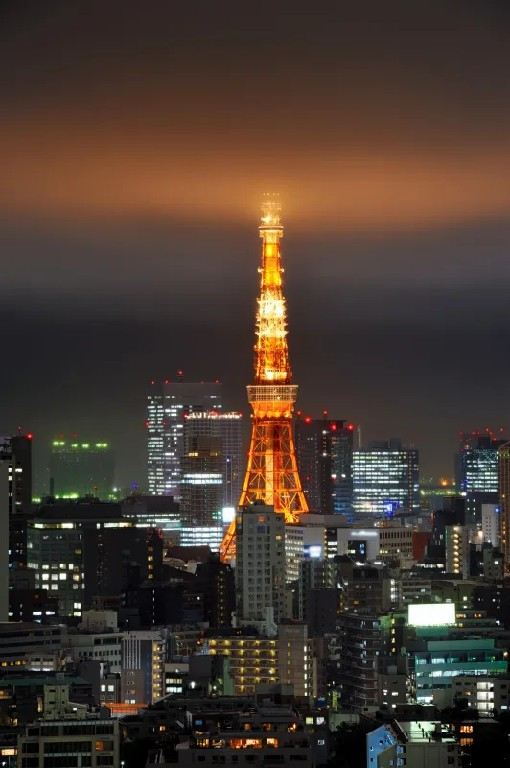Tokyo: (215, 181, 313, 562)
